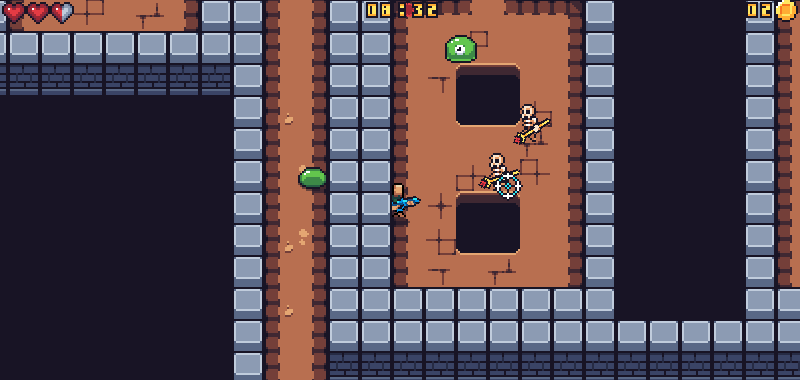enemy_skeleton: (478, 152, 519, 196), (514, 102, 552, 149)
enemy_slug: (296, 164, 327, 190)
enemy_slug_big: (445, 32, 479, 65)
